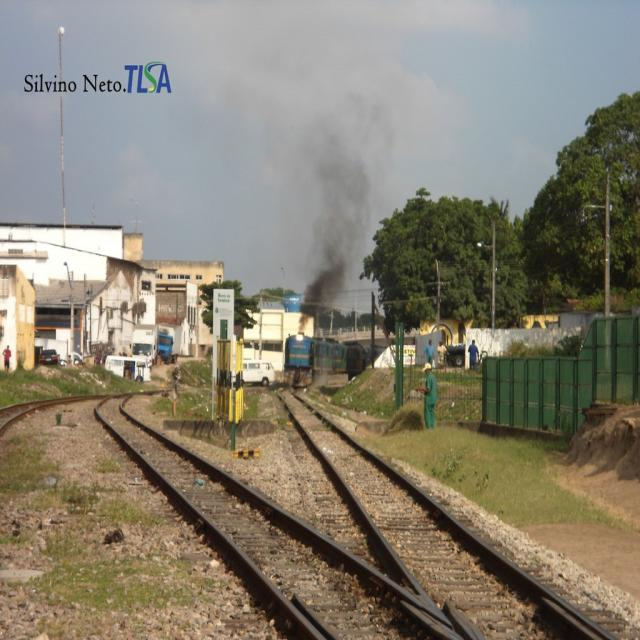locomotive: (282, 329, 315, 392)
